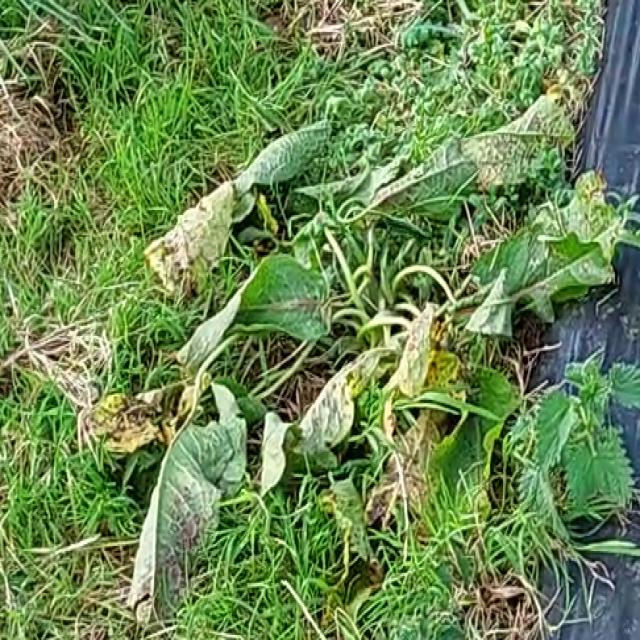organic waste: (121, 101, 561, 559)
